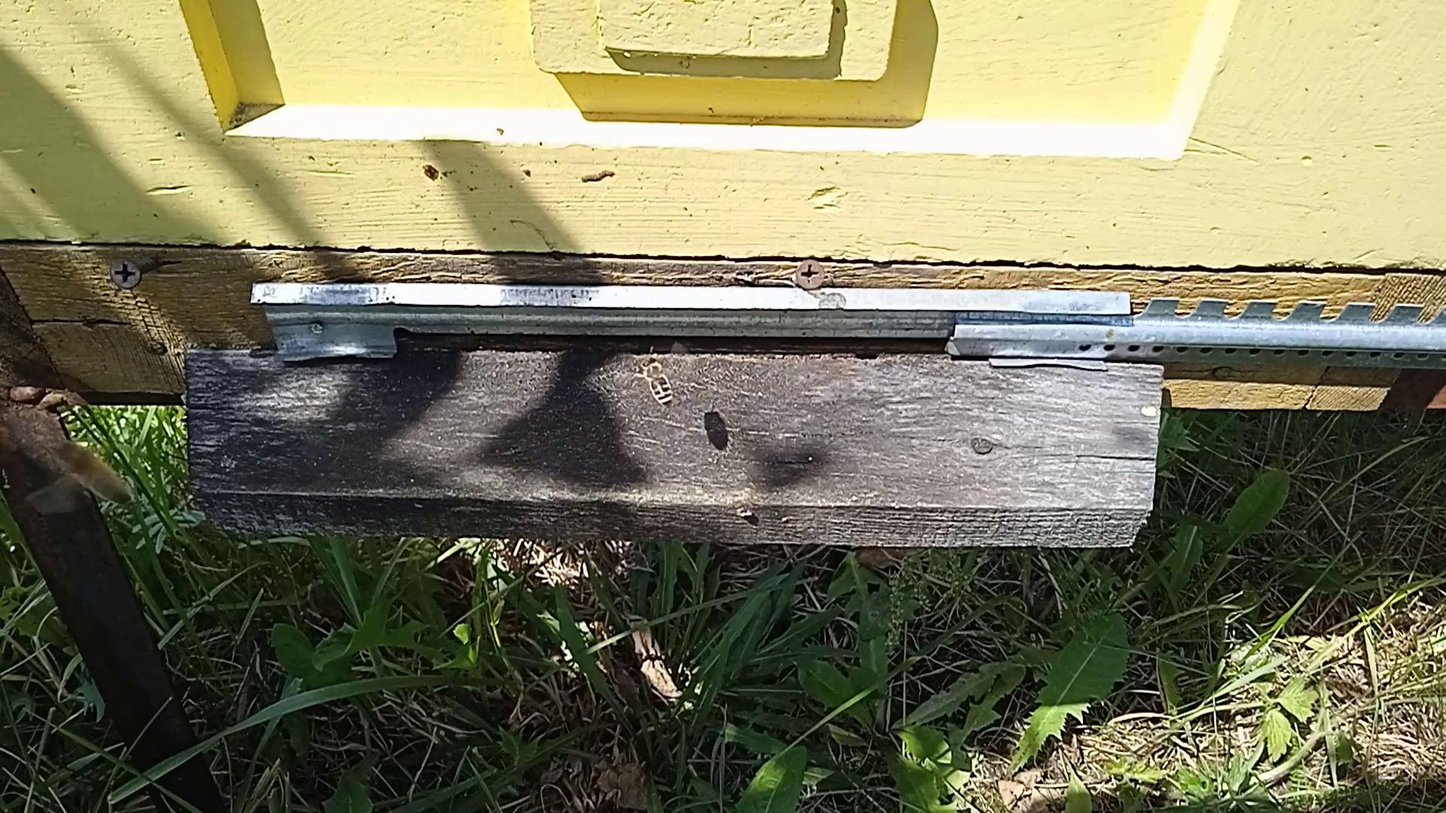worker-bee: (50, 442, 135, 508), (637, 354, 674, 407)
